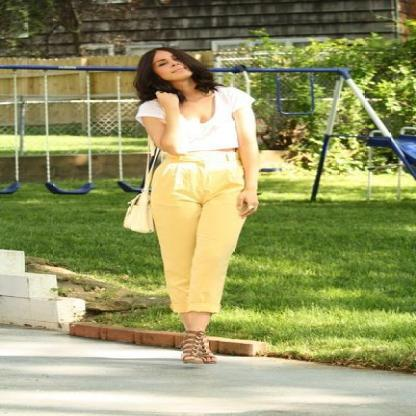bag: (124, 191, 171, 233)
pants: (142, 158, 244, 321)
shirt: (137, 75, 255, 173)
shoe: (170, 329, 216, 363)
